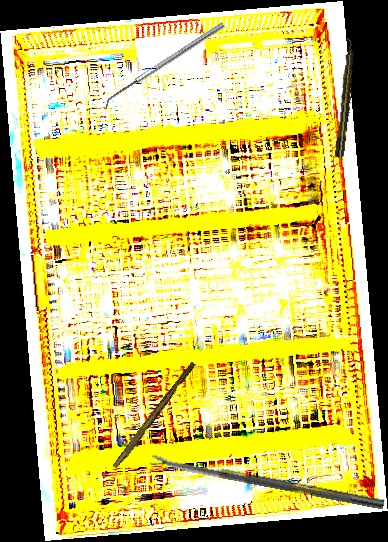Handpiece: (333, 37, 358, 159)
Scalpel Handle: (112, 359, 197, 472)
Spatula Surgical: (101, 22, 228, 110)
Surgical Spoon: (150, 453, 385, 510)
